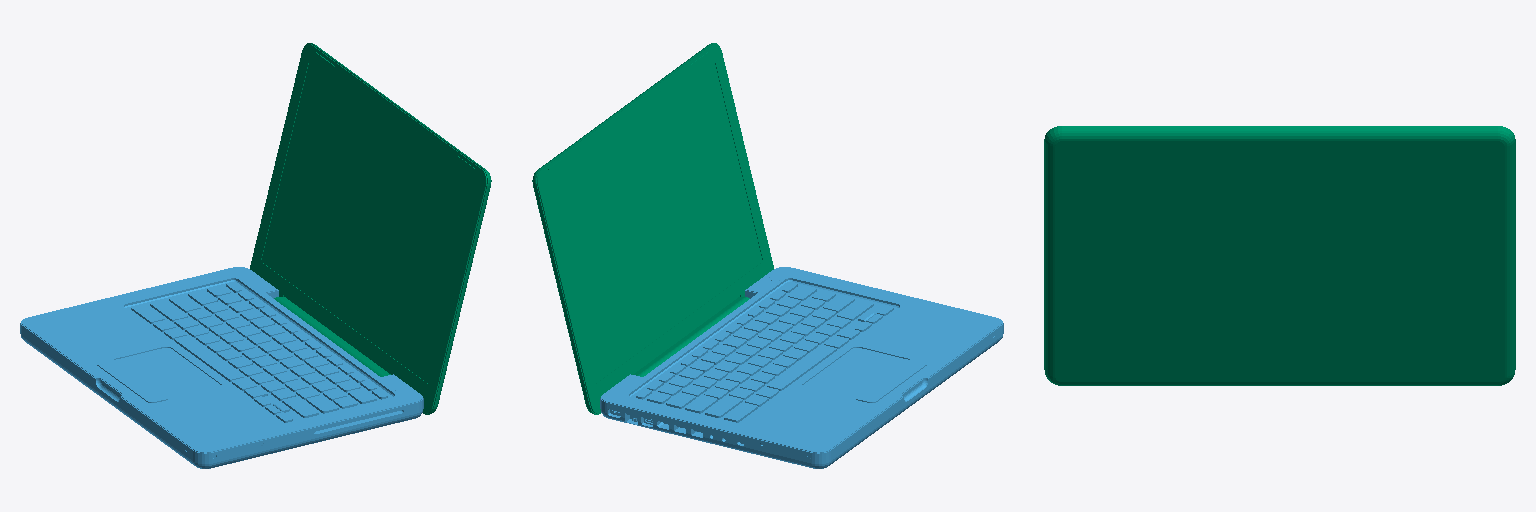
URDF robot description (partnet_a4b410734514306ac401e233323032d6):
<?xml version="1.0" ?>
<robot name="partnet_a4b410734514306ac401e233323032d6">
	<link name="base"/>
	<link name="link_0">
		<visual name="keyboard-5">
			<origin xyz="0 0 0"/>
			<geometry>
				<mesh filename="textured_objs/new-3.obj"/>
			</geometry>
		</visual>
		<visual name="touchpad_surface-8">
			<origin xyz="0 0 0"/>
			<geometry>
				<mesh filename="textured_objs/new-4.obj"/>
			</geometry>
		</visual>
		<visual name="button-9">
			<origin xyz="0 0 0"/>
			<geometry>
				<mesh filename="textured_objs/new-6.obj"/>
			</geometry>
		</visual>
		<visual name="button-10">
			<origin xyz="0 0 0"/>
			<geometry>
				<mesh filename="textured_objs/new-5.obj"/>
			</geometry>
		</visual>
		<visual name="base_frame-7">
			<origin xyz="0 0 0"/>
			<geometry>
				<mesh filename="textured_objs/new-7.obj"/>
			</geometry>
		</visual>
		<collision>
			<origin xyz="0 0 0"/>
			<geometry>
				<mesh filename="textured_objs/new-3.obj"/>
			</geometry>
		</collision>
		<collision>
			<origin xyz="0 0 0"/>
			<geometry>
				<mesh filename="textured_objs/new-4.obj"/>
			</geometry>
		</collision>
		<collision>
			<origin xyz="0 0 0"/>
			<geometry>
				<mesh filename="textured_objs/new-6.obj"/>
			</geometry>
		</collision>
		<collision>
			<origin xyz="0 0 0"/>
			<geometry>
				<mesh filename="textured_objs/new-5.obj"/>
			</geometry>
		</collision>
		<collision>
			<origin xyz="0 0 0"/>
			<geometry>
				<mesh filename="textured_objs/new-7.obj"/>
			</geometry>
		</collision>
	</link>
	<joint name="joint_0" type="fixed">
		<origin rpy="1.570796326794897 0 -1.570796326794897" xyz="0 0 0"/>
		<child link="link_0"/>
		<parent link="base"/>
	</joint>
	<link name="link_1">
		<visual name="shaft-4">
			<origin xyz="0 0.17 0.185"/>
			<geometry>
				<mesh filename="textured_objs/new-0.obj"/>
			</geometry>
		</visual>
		<visual name="screen-11">
			<origin xyz="0 0.17 0.185"/>
			<geometry>
				<mesh filename="textured_objs/original-20.obj"/>
			</geometry>
		</visual>
		<visual name="screen-11">
			<origin xyz="0 0.17 0.185"/>
			<geometry>
				<mesh filename="textured_objs/original-6.obj"/>
			</geometry>
		</visual>
		<visual name="screen-11">
			<origin xyz="0 0.17 0.185"/>
			<geometry>
				<mesh filename="textured_objs/original-5.obj"/>
			</geometry>
		</visual>
		<visual name="screen-11">
			<origin xyz="0 0.17 0.185"/>
			<geometry>
				<mesh filename="textured_objs/original-8.obj"/>
			</geometry>
		</visual>
		<visual name="screen-11">
			<origin xyz="0 0.17 0.185"/>
			<geometry>
				<mesh filename="textured_objs/original-11.obj"/>
			</geometry>
		</visual>
		<visual name="screen-11">
			<origin xyz="0 0.17 0.185"/>
			<geometry>
				<mesh filename="textured_objs/original-21.obj"/>
			</geometry>
		</visual>
		<visual name="screen-11">
			<origin xyz="0 0.17 0.185"/>
			<geometry>
				<mesh filename="textured_objs/original-12.obj"/>
			</geometry>
		</visual>
		<visual name="screen-11">
			<origin xyz="0 0.17 0.185"/>
			<geometry>
				<mesh filename="textured_objs/original-9.obj"/>
			</geometry>
		</visual>
		<visual name="screen-11">
			<origin xyz="0 0.17 0.185"/>
			<geometry>
				<mesh filename="textured_objs/original-10.obj"/>
			</geometry>
		</visual>
		<visual name="screen-11">
			<origin xyz="0 0.17 0.185"/>
			<geometry>
				<mesh filename="textured_objs/original-7.obj"/>
			</geometry>
		</visual>
		<visual name="screen-11">
			<origin xyz="0 0.17 0.185"/>
			<geometry>
				<mesh filename="textured_objs/original-16.obj"/>
			</geometry>
		</visual>
		<visual name="screen-11">
			<origin xyz="0 0.17 0.185"/>
			<geometry>
				<mesh filename="textured_objs/original-17.obj"/>
			</geometry>
		</visual>
		<visual name="screen-11">
			<origin xyz="0 0.17 0.185"/>
			<geometry>
				<mesh filename="textured_objs/original-14.obj"/>
			</geometry>
		</visual>
		<visual name="screen-11">
			<origin xyz="0 0.17 0.185"/>
			<geometry>
				<mesh filename="textured_objs/original-19.obj"/>
			</geometry>
		</visual>
		<visual name="screen-11">
			<origin xyz="0 0.17 0.185"/>
			<geometry>
				<mesh filename="textured_objs/original-15.obj"/>
			</geometry>
		</visual>
		<visual name="screen-11">
			<origin xyz="0 0.17 0.185"/>
			<geometry>
				<mesh filename="textured_objs/new-1.obj"/>
			</geometry>
		</visual>
		<visual name="screen-11">
			<origin xyz="0 0.17 0.185"/>
			<geometry>
				<mesh filename="textured_objs/original-18.obj"/>
			</geometry>
		</visual>
		<visual name="screen-11">
			<origin xyz="0 0.17 0.185"/>
			<geometry>
				<mesh filename="textured_objs/original-13.obj"/>
			</geometry>
		</visual>
		<visual name="screen-11">
			<origin xyz="0 0.17 0.185"/>
			<geometry>
				<mesh filename="textured_objs/original-4.obj"/>
			</geometry>
		</visual>
		<visual name="screen_frame-12">
			<origin xyz="0 0.17 0.185"/>
			<geometry>
				<mesh filename="textured_objs/new-9.obj"/>
			</geometry>
		</visual>
		<visual name="camera-13">
			<origin xyz="0 0.17 0.185"/>
			<geometry>
				<mesh filename="textured_objs/new-8.obj"/>
			</geometry>
		</visual>
		<collision>
			<origin xyz="0 0.17 0.185"/>
			<geometry>
				<mesh filename="textured_objs/new-0.obj"/>
			</geometry>
		</collision>
		<collision>
			<origin xyz="0 0.17 0.185"/>
			<geometry>
				<mesh filename="textured_objs/original-20.obj"/>
			</geometry>
		</collision>
		<collision>
			<origin xyz="0 0.17 0.185"/>
			<geometry>
				<mesh filename="textured_objs/original-6.obj"/>
			</geometry>
		</collision>
		<collision>
			<origin xyz="0 0.17 0.185"/>
			<geometry>
				<mesh filename="textured_objs/original-5.obj"/>
			</geometry>
		</collision>
		<collision>
			<origin xyz="0 0.17 0.185"/>
			<geometry>
				<mesh filename="textured_objs/original-8.obj"/>
			</geometry>
		</collision>
		<collision>
			<origin xyz="0 0.17 0.185"/>
			<geometry>
				<mesh filename="textured_objs/original-11.obj"/>
			</geometry>
		</collision>
		<collision>
			<origin xyz="0 0.17 0.185"/>
			<geometry>
				<mesh filename="textured_objs/original-21.obj"/>
			</geometry>
		</collision>
		<collision>
			<origin xyz="0 0.17 0.185"/>
			<geometry>
				<mesh filename="textured_objs/original-12.obj"/>
			</geometry>
		</collision>
		<collision>
			<origin xyz="0 0.17 0.185"/>
			<geometry>
				<mesh filename="textured_objs/original-9.obj"/>
			</geometry>
		</collision>
		<collision>
			<origin xyz="0 0.17 0.185"/>
			<geometry>
				<mesh filename="textured_objs/original-10.obj"/>
			</geometry>
		</collision>
		<collision>
			<origin xyz="0 0.17 0.185"/>
			<geometry>
				<mesh filename="textured_objs/original-7.obj"/>
			</geometry>
		</collision>
		<collision>
			<origin xyz="0 0.17 0.185"/>
			<geometry>
				<mesh filename="textured_objs/original-16.obj"/>
			</geometry>
		</collision>
		<collision>
			<origin xyz="0 0.17 0.185"/>
			<geometry>
				<mesh filename="textured_objs/original-17.obj"/>
			</geometry>
		</collision>
		<collision>
			<origin xyz="0 0.17 0.185"/>
			<geometry>
				<mesh filename="textured_objs/original-14.obj"/>
			</geometry>
		</collision>
		<collision>
			<origin xyz="0 0.17 0.185"/>
			<geometry>
				<mesh filename="textured_objs/original-19.obj"/>
			</geometry>
		</collision>
		<collision>
			<origin xyz="0 0.17 0.185"/>
			<geometry>
				<mesh filename="textured_objs/original-15.obj"/>
			</geometry>
		</collision>
		<collision>
			<origin xyz="0 0.17 0.185"/>
			<geometry>
				<mesh filename="textured_objs/new-1.obj"/>
			</geometry>
		</collision>
		<collision>
			<origin xyz="0 0.17 0.185"/>
			<geometry>
				<mesh filename="textured_objs/original-18.obj"/>
			</geometry>
		</collision>
		<collision>
			<origin xyz="0 0.17 0.185"/>
			<geometry>
				<mesh filename="textured_objs/original-13.obj"/>
			</geometry>
		</collision>
		<collision>
			<origin xyz="0 0.17 0.185"/>
			<geometry>
				<mesh filename="textured_objs/original-4.obj"/>
			</geometry>
		</collision>
		<collision>
			<origin xyz="0 0.17 0.185"/>
			<geometry>
				<mesh filename="textured_objs/new-9.obj"/>
			</geometry>
		</collision>
		<collision>
			<origin xyz="0 0.17 0.185"/>
			<geometry>
				<mesh filename="textured_objs/new-8.obj"/>
			</geometry>
		</collision>
	</link>
	<joint name="joint_1" type="revolute">
		<origin xyz="0 -0.17 -0.185"/>
		<axis xyz="-1 0 0"/>
		<child link="link_1"/>
		<parent link="link_0"/>
		<limit lower="-1.832595714594046" upper="0.8726646259971648"/>
	</joint>
</robot>

--- Render facts (derived) ---
Views: 3 orthographic renders of the robot side by side, from view 1: azimuth 30°, elevation 25°; view 2: azimuth 150°, elevation 25°; view 3: azimuth 270°, elevation 25°.
Robot: partnet_a4b410734514306ac401e233323032d6 — 3 links, 2 joints (1 revolute, 1 fixed); root link base; default pose: every joint at zero.
Links seen in each view (by area): view 1: link_1, link_0; view 2: link_1, link_0; view 3: link_1.
Link boxes in pixels (left/top/right/bottom): link_1: left=250, top=43, right=491, bottom=414; link_0: left=20, top=267, right=423, bottom=468; link_1: left=532, top=43, right=773, bottom=414; link_0: left=600, top=267, right=1003, bottom=468; link_1: left=1044, top=126, right=1515, bottom=385.
Size in the robot's own frame: 1.18 by 1.28 by 0.8835 metres.
27 mesh visuals loaded from 27 distinct referenced files (27 OBJ).
